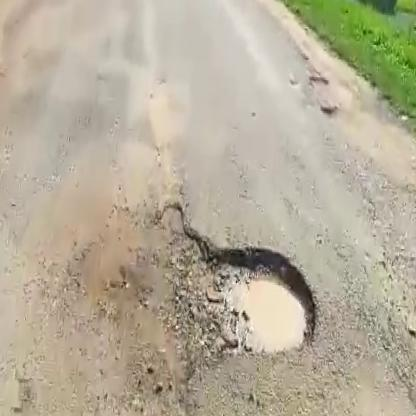pothole: (139, 231, 319, 373)
